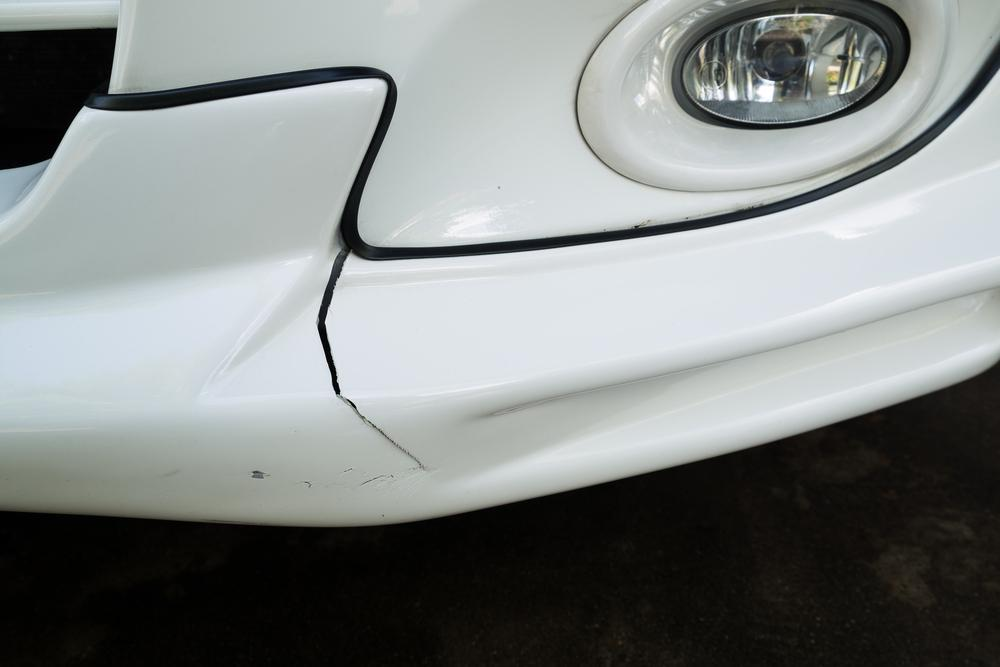crack: (314, 241, 429, 475)
